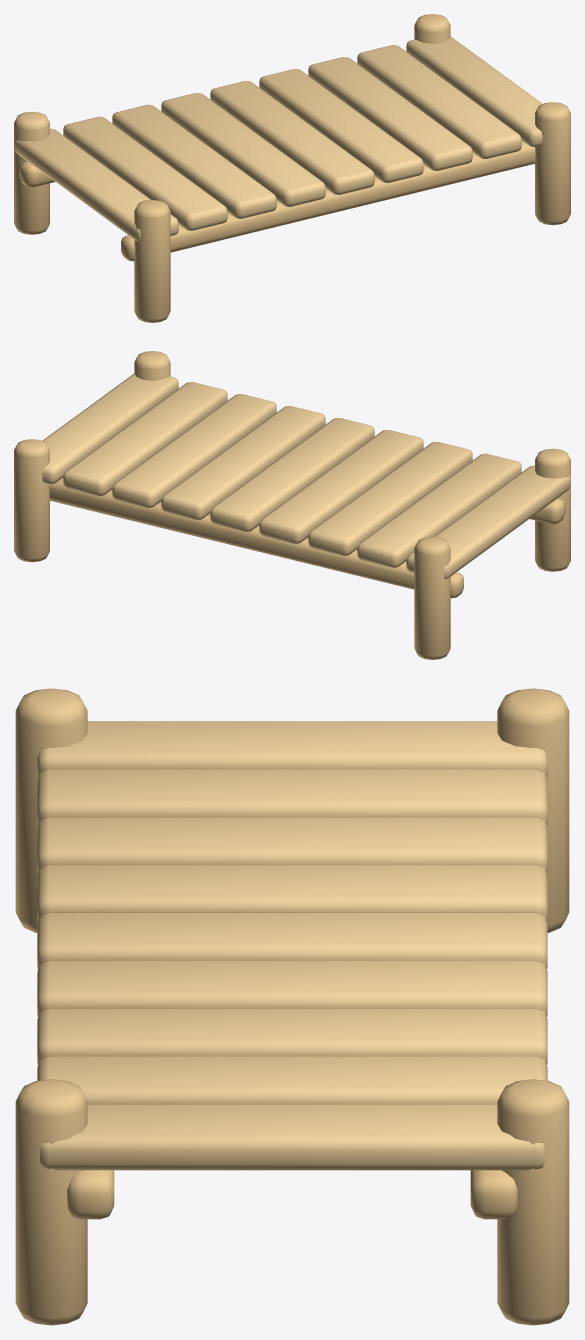
Rendered from bridge.glb.
3 renders of one model, top to bottom at view 1: azimuth 30°, elevation 25°; view 2: azimuth 150°, elevation 25°; view 3: azimuth 270°, elevation 25°, orthographic. The views are drawn at different scales.
Visible parts, largest first — view 1: bridge; view 2: bridge; view 3: bridge.
Boxes of the visible parts, x1=… form: bridge: x1=14, y1=14, x2=570, y2=322; bridge: x1=14, y1=351, x2=570, y2=659; bridge: x1=15, y1=688, x2=569, y2=1325.
Size of the model in its own units: 2.1 by 0.52 by 1.15.
